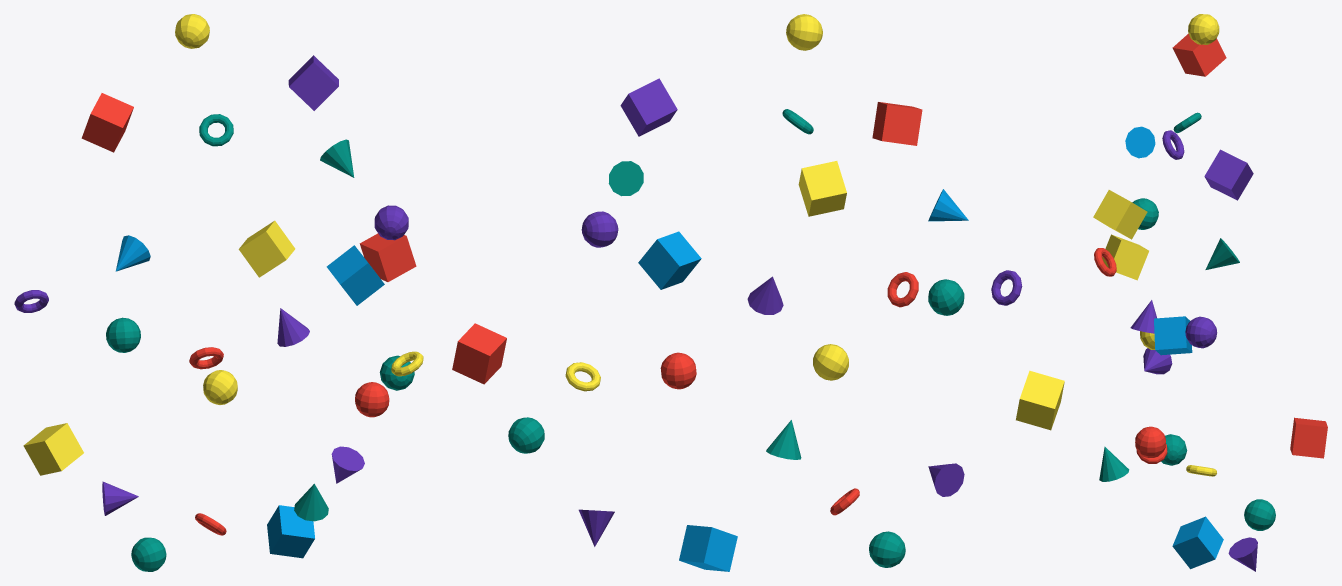
Rendered from sparkle.glb.
3 renders of one model, left to right at view 1: azimuth 30°, elevation 25°; view 2: azimuth 150°, elevation 25°; view 3: azimuth 270°, elevation 25°, orthographic. The views are drawn at different scales.
Visible parts, largest first — view 1: group709335675, group1077739897, group38611248, group1640727703, group1418949159, group1151794657, group876584932, group399552111, group1010847707, group1029416125, group1586319428, group889319016 (+12 smaller); view 2: group1151794657, group1418949159, group1077739897, group1640727703, group709335675, group876584932, group38611248, group10512063, group1010847707, group1586319428, group889319016, group399552111 (+6 smaller); view 3: group1077739897, group876584932, group1640727703, group38611248, group1151794657, group1418949159, group709335675, group1254538524, group889319016, group1010847707, group10512063, group175355384 (+9 smaller).
Boxes of the visible parts, x1=… form: group709335675: x1=23, y1=423, x2=83, y2=475; group1077739897: x1=267, y1=505, x2=314, y2=558; group38611248: x1=81, y1=93, x2=133, y2=152; group1640727703: x1=238, y1=220, x2=295, y2=277; group1418949159: x1=326, y1=245, x2=384, y2=305; group1151794657: x1=359, y1=233, x2=416, y2=281; group876584932: x1=288, y1=55, x2=338, y2=110; group399552111: x1=106, y1=317, x2=140, y2=352; group1010847707: x1=355, y1=382, x2=389, y2=417; group1029416125: x1=203, y1=370, x2=237, y2=404; group1586319428: x1=131, y1=537, x2=166, y2=571; group889319016: x1=374, y1=205, x2=408, y2=240; group1151794657: x1=452, y1=323, x2=506, y2=384; group1418949159: x1=638, y1=231, x2=701, y2=289; group1077739897: x1=679, y1=525, x2=737, y2=571; group1640727703: x1=798, y1=161, x2=846, y2=216; group709335675: x1=1016, y1=370, x2=1064, y2=430; group876584932: x1=620, y1=78, x2=677, y2=136; group38611248: x1=872, y1=102, x2=922, y2=145; group10512063: x1=786, y1=14, x2=822, y2=50; group1010847707: x1=660, y1=352, x2=696, y2=389; group1586319428: x1=869, y1=531, x2=905, y2=567; group889319016: x1=581, y1=211, x2=618, y2=247; group399552111: x1=928, y1=279, x2=964, y2=315; group1077739897: x1=1172, y1=516, x2=1223, y2=569; group876584932: x1=1204, y1=149, x2=1253, y2=200; group1640727703: x1=1093, y1=190, x2=1147, y2=239; group38611248: x1=1172, y1=33, x2=1226, y2=76; group1151794657: x1=1290, y1=417, x2=1327, y2=458; group1418949159: x1=1154, y1=316, x2=1192, y2=355; group709335675: x1=1102, y1=234, x2=1148, y2=280; group1254538524: x1=1244, y1=499, x2=1275, y2=530; group889319016: x1=1185, y1=316, x2=1217, y2=348; group1010847707: x1=1135, y1=426, x2=1165, y2=457; group10512063: x1=1188, y1=14, x2=1219, y2=44; group175355384: x1=1125, y1=126, x2=1155, y2=158.
Bounding box in the file's own units: 1.71 × 1.93 × 0.8068.
